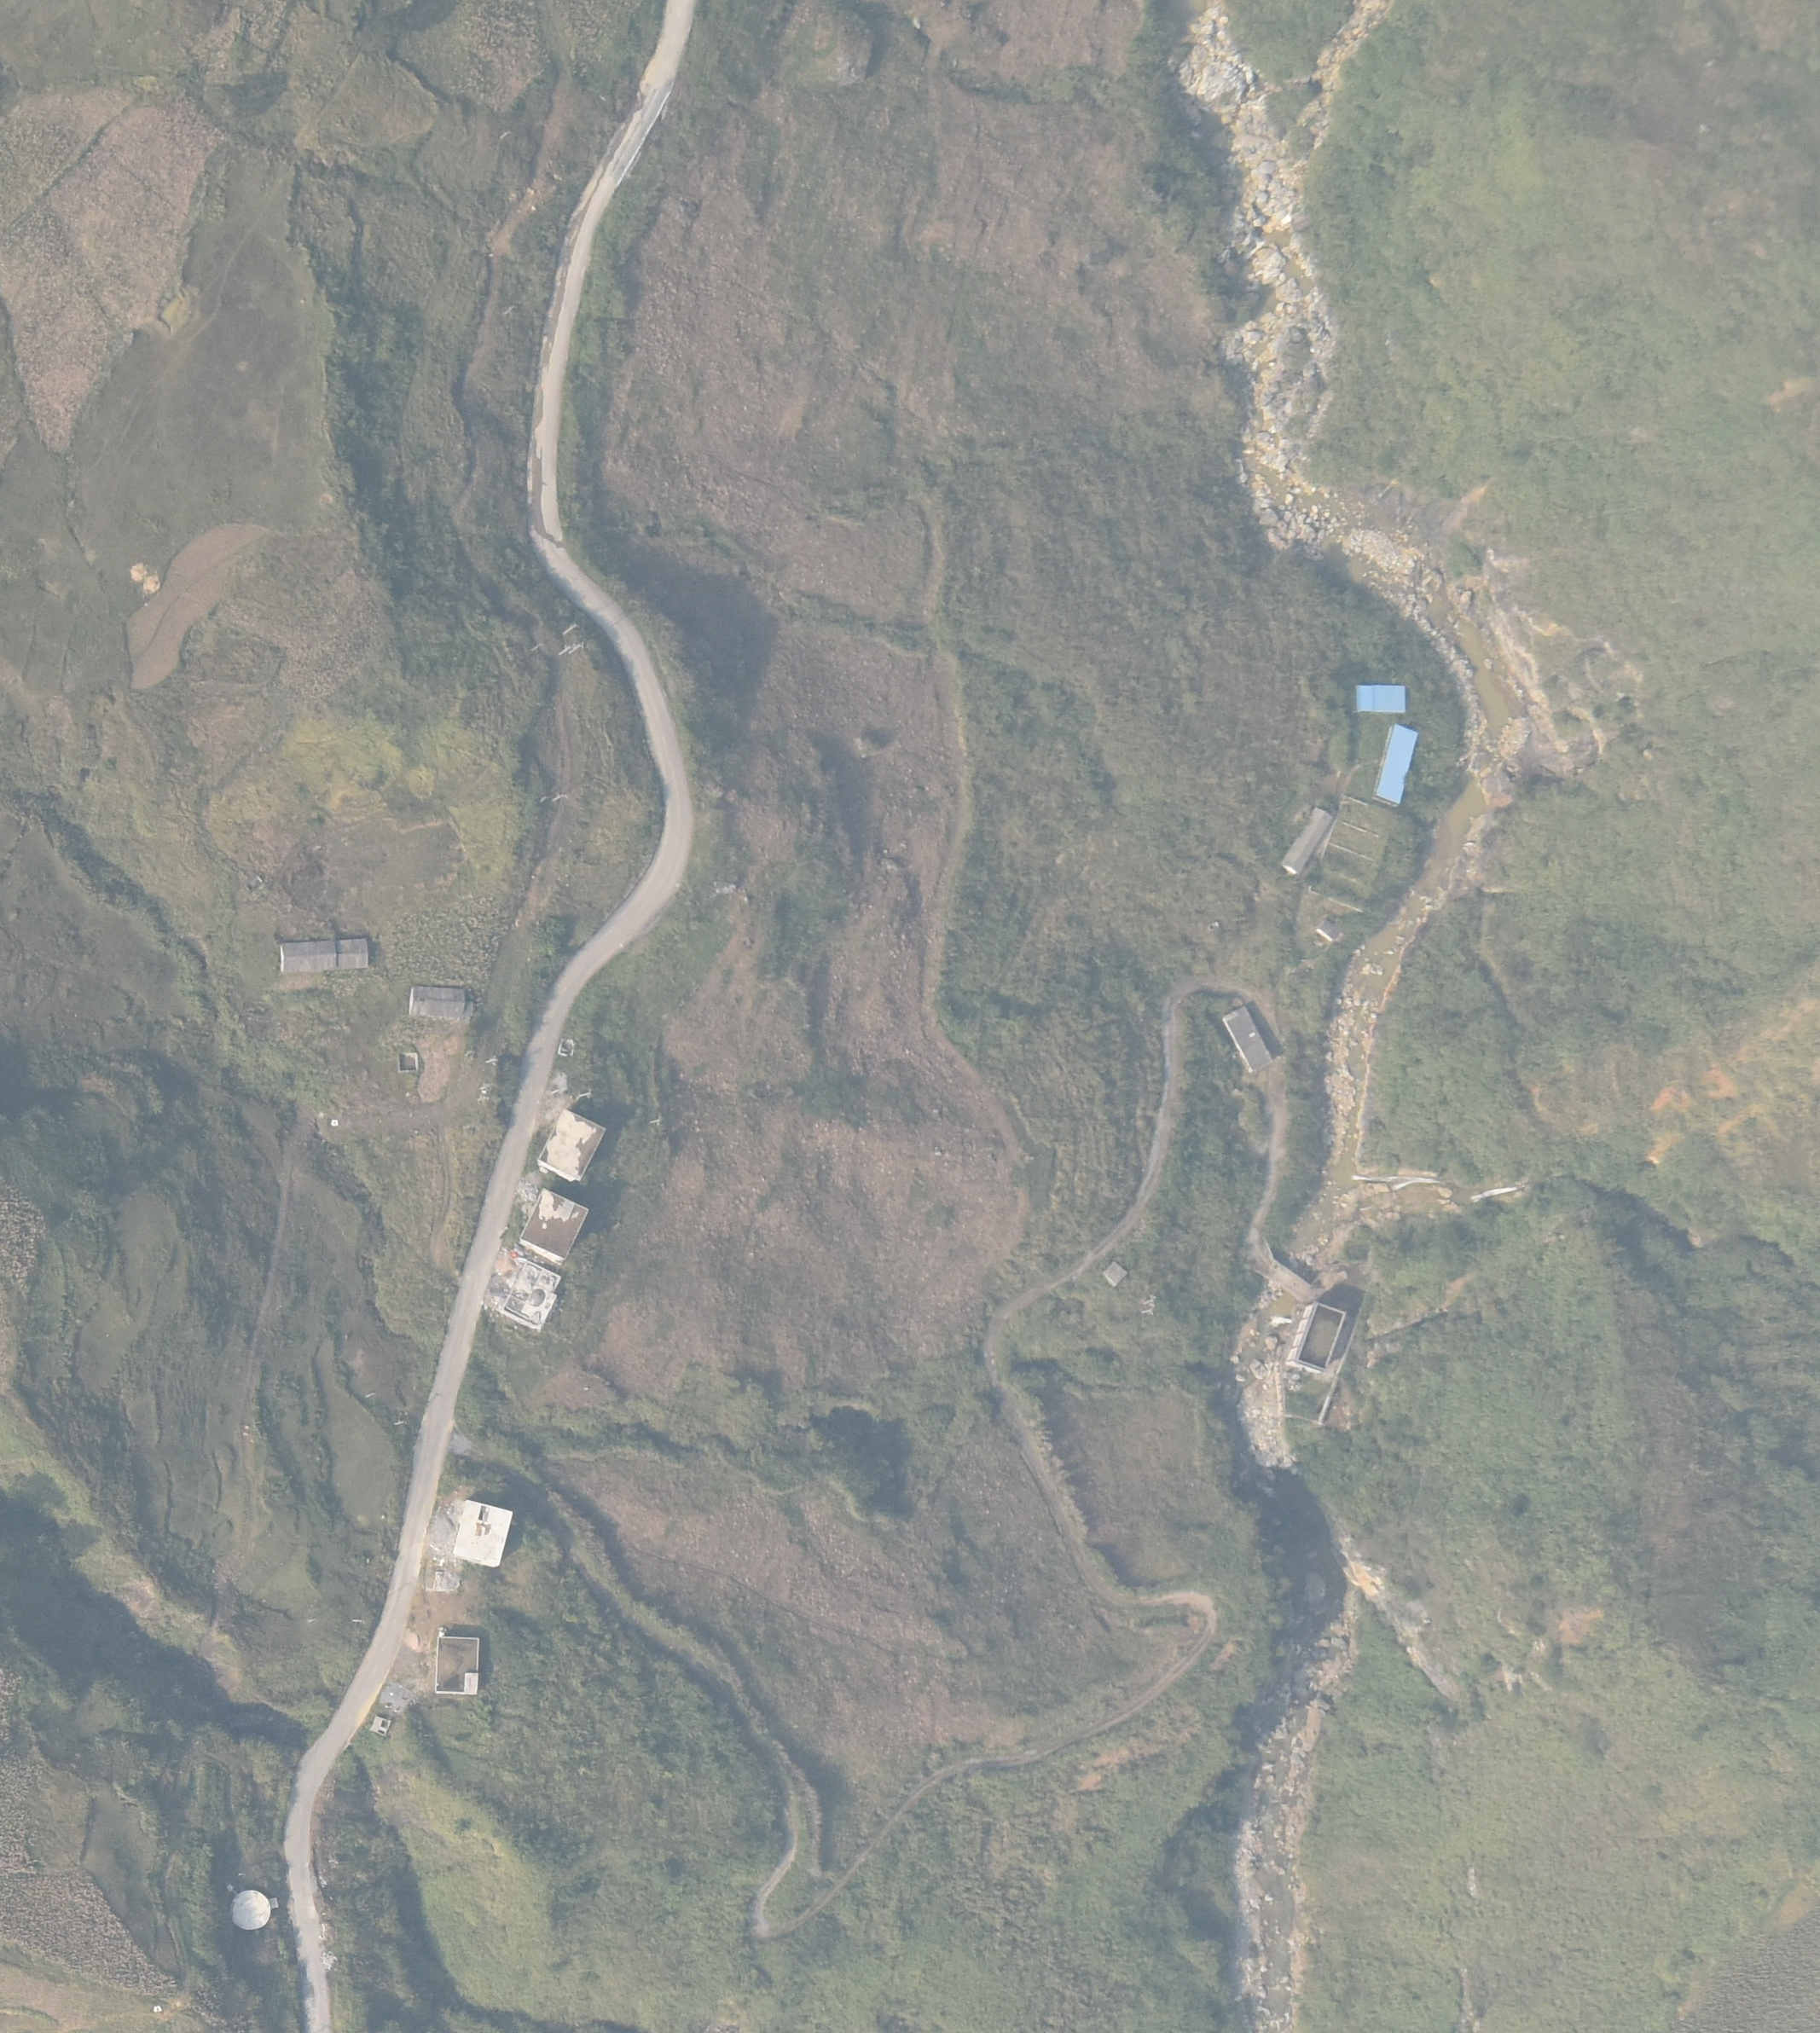building: (539, 1102, 610, 1198), (516, 1184, 599, 1262), (1217, 1003, 1284, 1082), (1282, 1300, 1351, 1374), (422, 1629, 497, 1696), (451, 1495, 511, 1578), (1275, 796, 1330, 882), (278, 930, 374, 973), (409, 979, 476, 1028)
prefabricated-house: (1379, 720, 1418, 810), (1354, 676, 1412, 720)
well: (227, 1885, 272, 1938)
